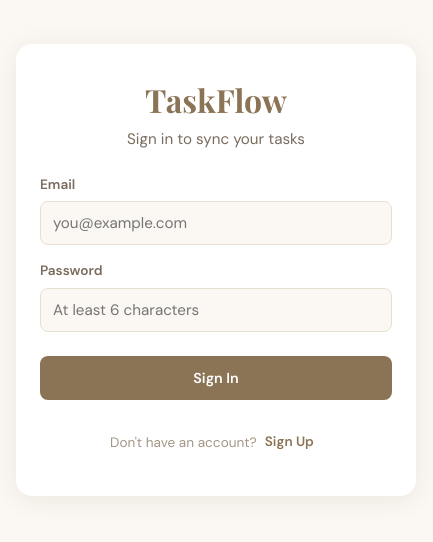
Auth component › shows auth error from server
Type "test@example.com" into the field labelled "Email" at (216, 223), box [40,201,392,245]
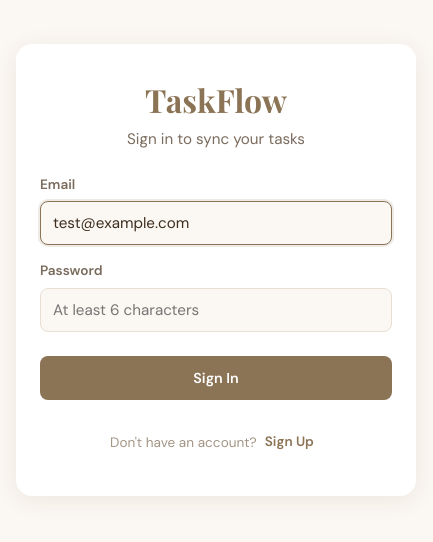
Type "wrongpassword" into the password field labelled "Password" at (216, 310), box [40,288,392,332]
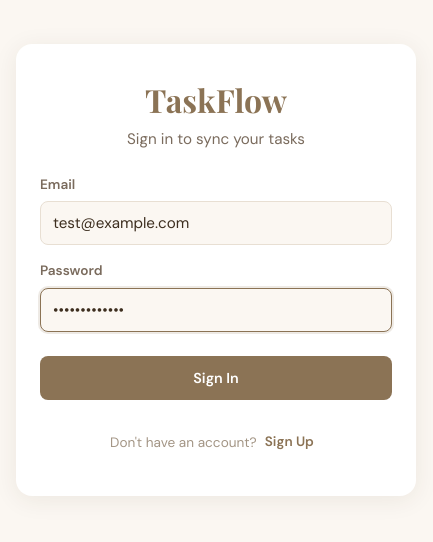
Click the button "Sign In" at (216, 378), box [40,356,392,400]
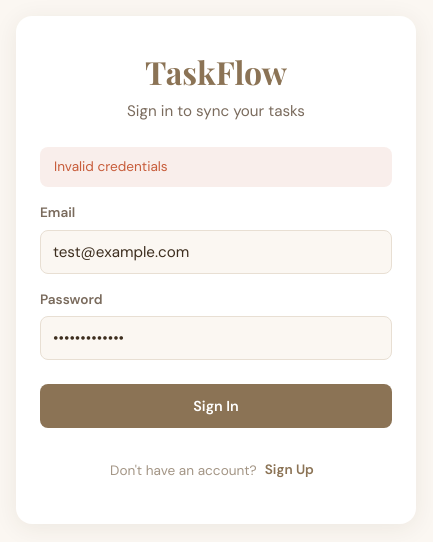
Now the text "Invalid credentials" is shown, box [40,147,392,187]
